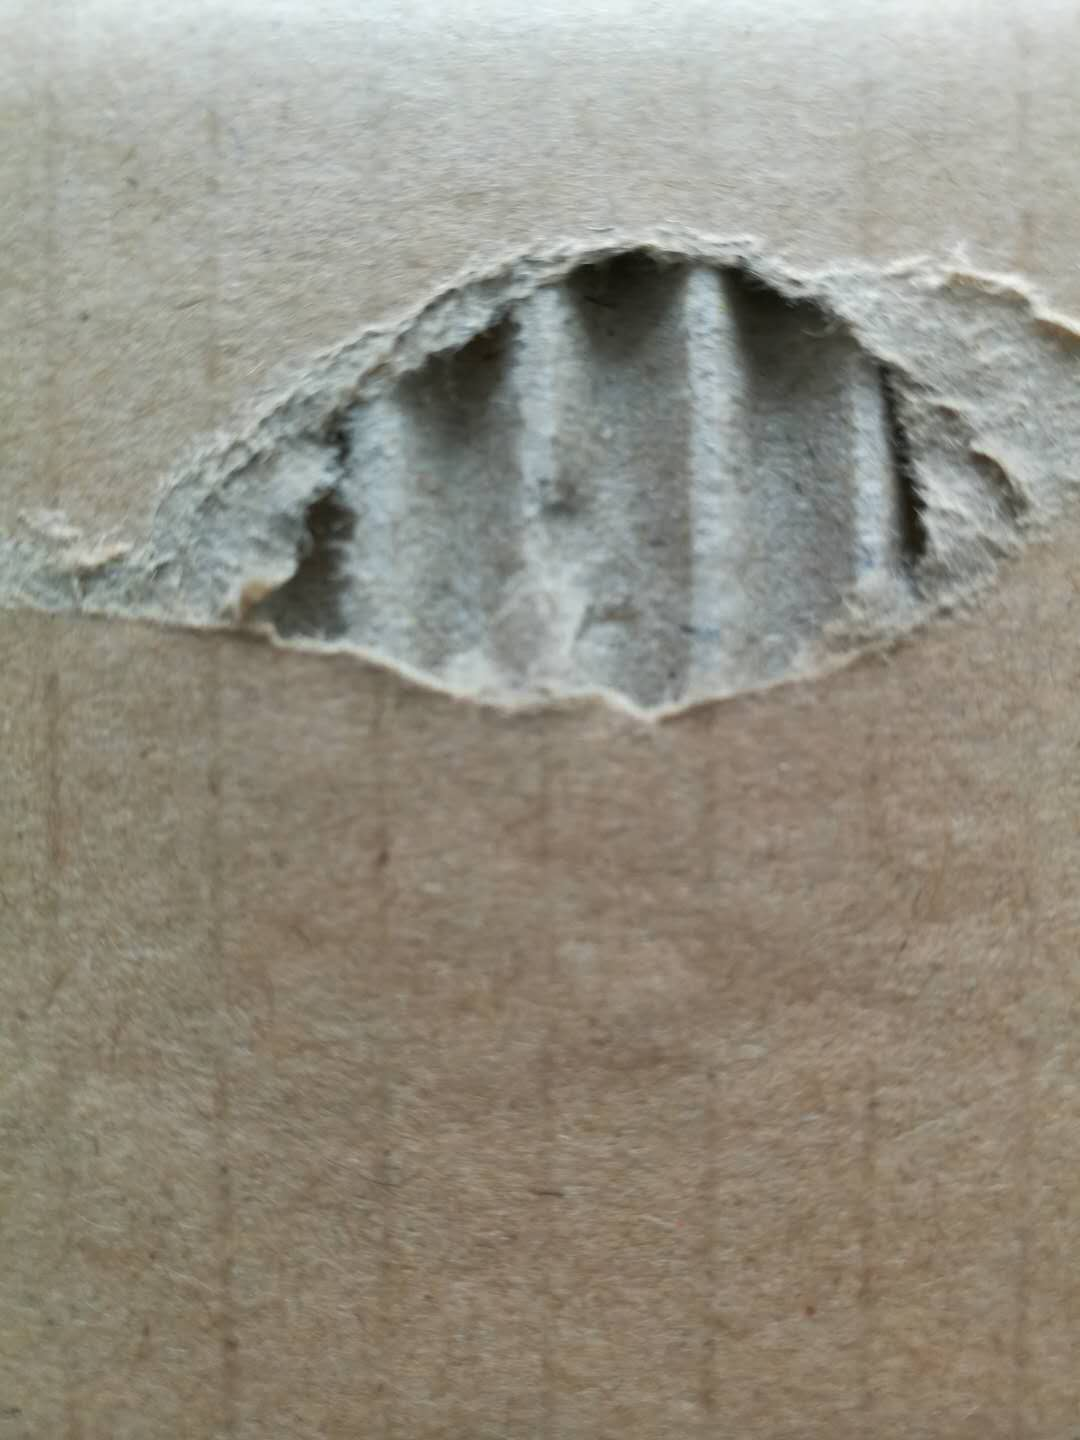defect: (5, 173, 1080, 807)
